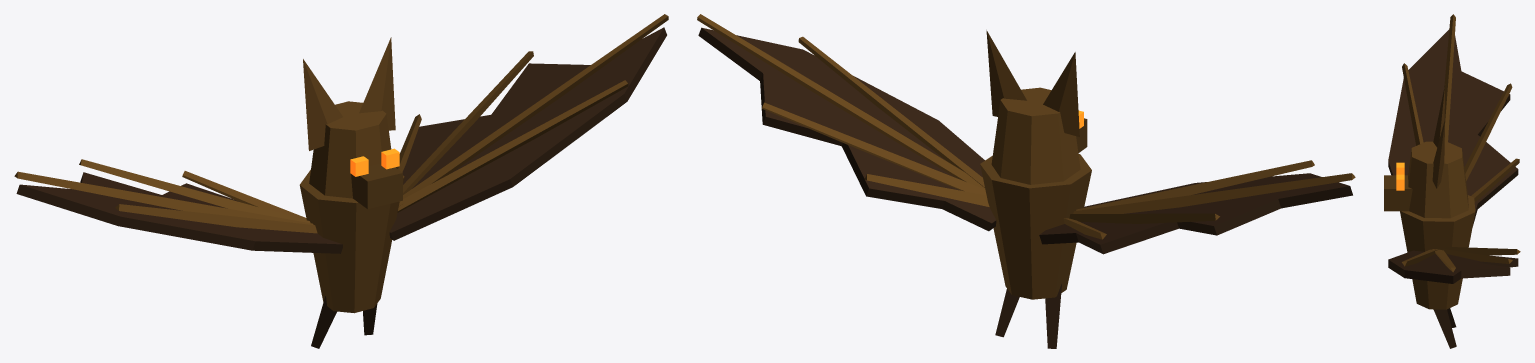
File: giant_bat.glb
3 renders of one model, left to right at view 1: azimuth 30°, elevation 25°; view 2: azimuth 150°, elevation 25°; view 3: azimuth 270°, elevation 25°, orthographic. The views are drawn at different scales.
Visible parts, largest first — view 1: giant_bat_wing_l, giant_bat_wing_r, giant_bat_head, giant_bat_body; view 2: giant_bat_wing_l, giant_bat_wing_r, giant_bat_body, giant_bat_head; view 3: giant_bat_wing_r, giant_bat_head, giant_bat_body, giant_bat_wing_l.
Boxes of the visible parts, left/top/right/bottom form: giant_bat_wing_l: left=389, top=14, right=668, bottom=240; giant_bat_wing_r: left=14, top=159, right=342, bottom=253; giant_bat_head: left=303, top=37, right=402, bottom=209; giant_bat_body: left=299, top=169, right=404, bottom=348; giant_bat_wing_l: left=697, top=14, right=996, bottom=231; giant_bat_wing_r: left=1039, top=160, right=1355, bottom=254; giant_bat_body: left=980, top=154, right=1091, bottom=348; giant_bat_head: left=986, top=30, right=1087, bottom=184; giant_bat_wing_r: left=1388, top=14, right=1519, bottom=226; giant_bat_head: left=1384, top=84, right=1468, bottom=218; giant_bat_body: left=1400, top=195, right=1475, bottom=348; giant_bat_wing_l: left=1388, top=246, right=1520, bottom=283.
Size of the model in its own units: 2.22 by 0.9652 by 0.504.
